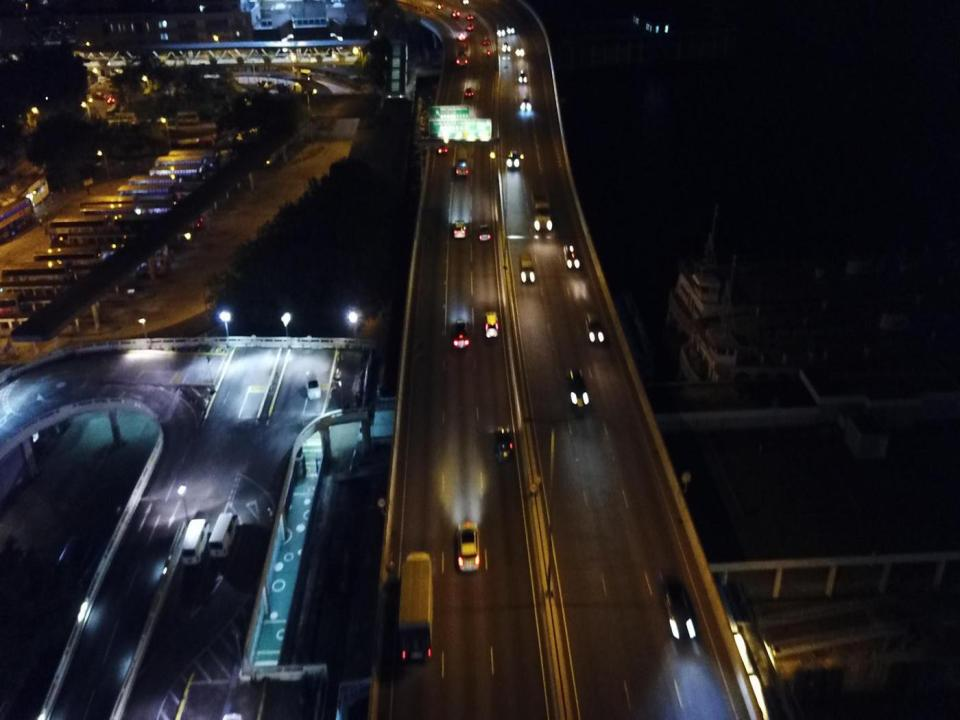bus: (113, 213, 188, 248), (48, 213, 112, 248), (137, 198, 202, 232), (0, 197, 38, 250), (0, 262, 73, 288), (80, 195, 135, 226), (34, 249, 102, 273), (116, 184, 174, 212), (149, 165, 205, 189), (153, 156, 210, 179), (128, 174, 181, 196), (455, 147, 468, 176), (295, 68, 312, 80)
car: (662, 577, 695, 643), (456, 525, 481, 575), (568, 367, 589, 406), (495, 426, 513, 462), (585, 310, 604, 342), (453, 319, 469, 348), (563, 243, 580, 268), (508, 149, 519, 169), (479, 222, 491, 240), (520, 96, 532, 110), (438, 142, 449, 154), (519, 68, 527, 82), (464, 87, 474, 97), (503, 40, 510, 52), (506, 26, 514, 34), (451, 9, 459, 17), (516, 48, 524, 55), (107, 95, 114, 103), (459, 32, 465, 40), (436, 3, 444, 8), (466, 13, 472, 19), (467, 25, 473, 30)
truck: (398, 552, 432, 663), (530, 184, 552, 230), (457, 43, 469, 66)
van: (209, 513, 239, 558), (182, 518, 208, 565), (518, 250, 535, 282), (305, 371, 321, 400), (485, 311, 498, 338), (454, 219, 466, 238), (496, 22, 504, 36)
